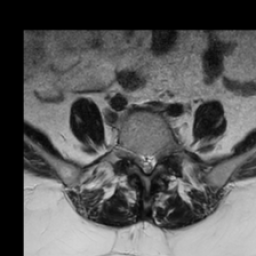CCS_normal: (143, 146, 150, 180)
LFS_normal: (157, 138, 166, 167)
LLS_normal: (150, 145, 157, 176)
RFS_normal: (128, 140, 136, 170)
RLS_normal: (136, 144, 143, 177)
